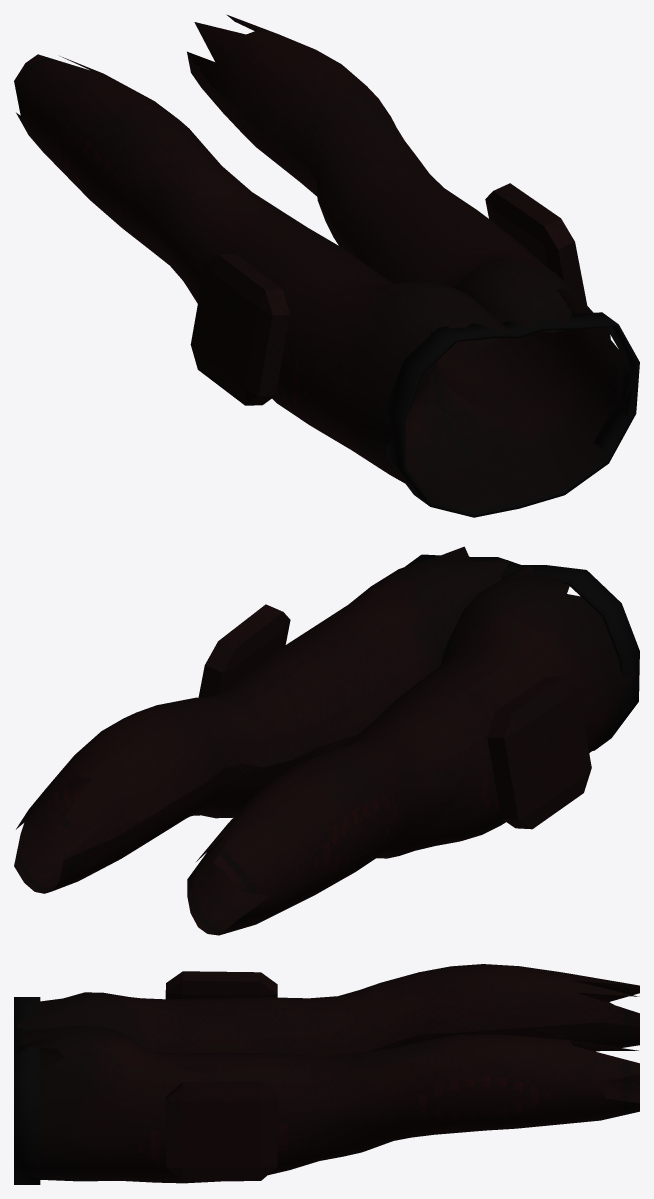
Rendered from cargo_pants.glb.
The picture shows the model from 3 angles, top to bottom: view 1: azimuth 30°, elevation 25°; view 2: azimuth 150°, elevation 25°; view 3: azimuth 270°, elevation 25°; orthographic projection. The views are drawn at different scales.
Visible parts, largest first — view 1: cargo_pants_ground; view 2: cargo_pants_ground; view 3: cargo_pants_ground.
Boxes of the visible parts, x1,y1,x2,y2 form: cargo_pants_ground: (14, 14, 639, 517); cargo_pants_ground: (14, 546, 639, 935); cargo_pants_ground: (14, 964, 639, 1184).
Size of the model in its own units: 0.4711 by 0.2767 by 0.9527.
1 material, 1 textured.
